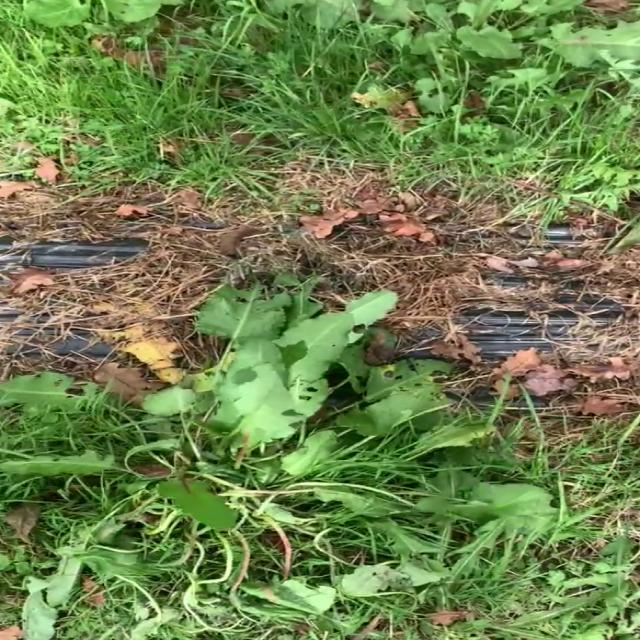organic waste: (0, 278, 612, 640), (264, 0, 640, 114), (0, 0, 196, 58)
